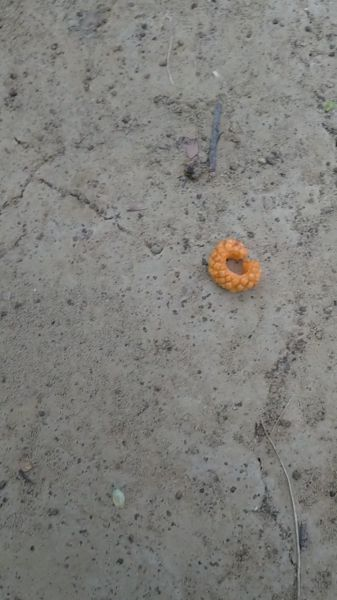eggs: (205, 235, 266, 302)
